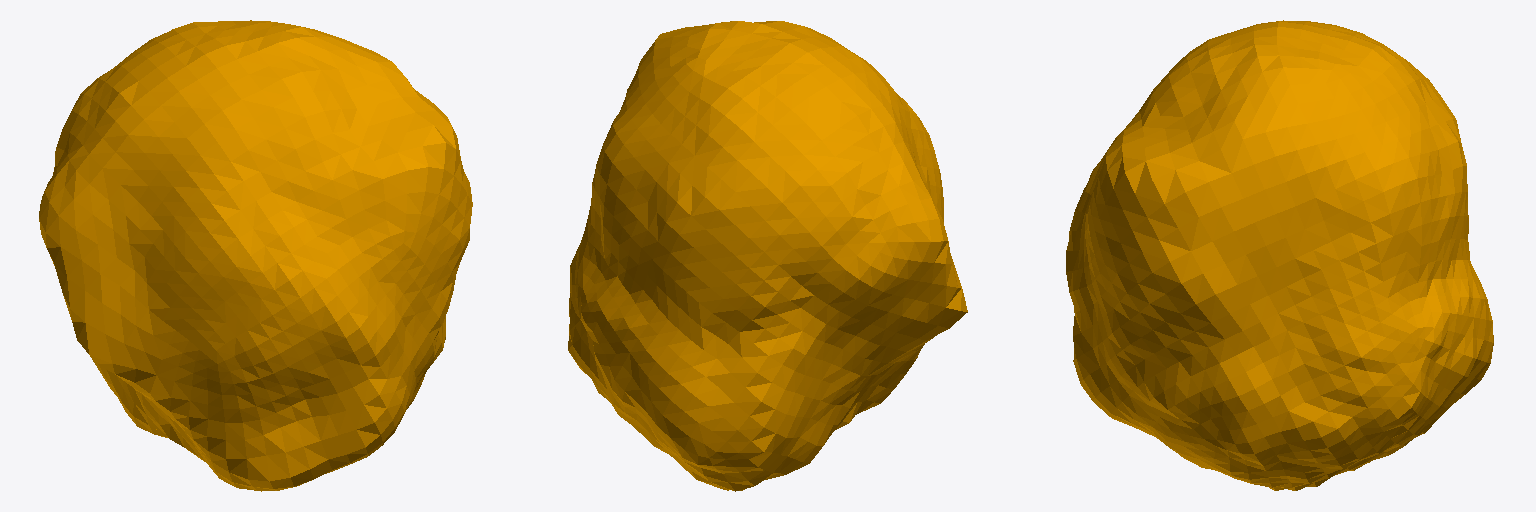
URDF robot description (rock):
<?xml version="1.0" ?>
<robot name="rock">
  <link name="rock">
    <inertial>
      <mass value="0.334"/>
      <origin rpy="0 0 0" xyz="0 0 0"/>
      <inertia ixx="0.000334" ixy="0" ixz="0" iyy="0.000334" iyz="0" izz="0.000334"/>
    </inertial>
    <collision name="rock_collision">
      <origin rpy="0 0 0" xyz="0 0 0"/>
      <geometry>
        <mesh filename="package://rocks/visual/221.dae" scale="1 1 1"/>
      </geometry>
    </collision>
    <visual name="rock_visual">
      <origin rpy="0 0 0" xyz="0 0 0"/>
      <geometry>
        <mesh filename="package://rocks/visual/221.dae" scale="1 1 1"/>
      </geometry>
    </visual>
  </link>
</robot>

--- What the picture shows (computed from the rendered views, not written in the file) ---
3 views of the same robot in one strip: view 1: azimuth 30°, elevation 25°; view 2: azimuth 150°, elevation 25°; view 3: azimuth 270°, elevation 25° (orthographic).
Model rock with 1 links and 0 joints (none), rooted at rock, posed every joint at zero.
Links seen in each view (by area): view 1: rock; view 2: rock; view 3: rock.
Boxes of the visible links, x1,y1,x2,y2 form: rock: (39, 20, 472, 491); rock: (568, 21, 967, 491); rock: (1066, 20, 1493, 490).
Bounding box of the posed robot: 0.0683 × 0.0694 × 0.0757 m (x, y, z).
Meshes: 1 distinct files referenced, 1 mesh visuals loaded (1 Collada DAE).